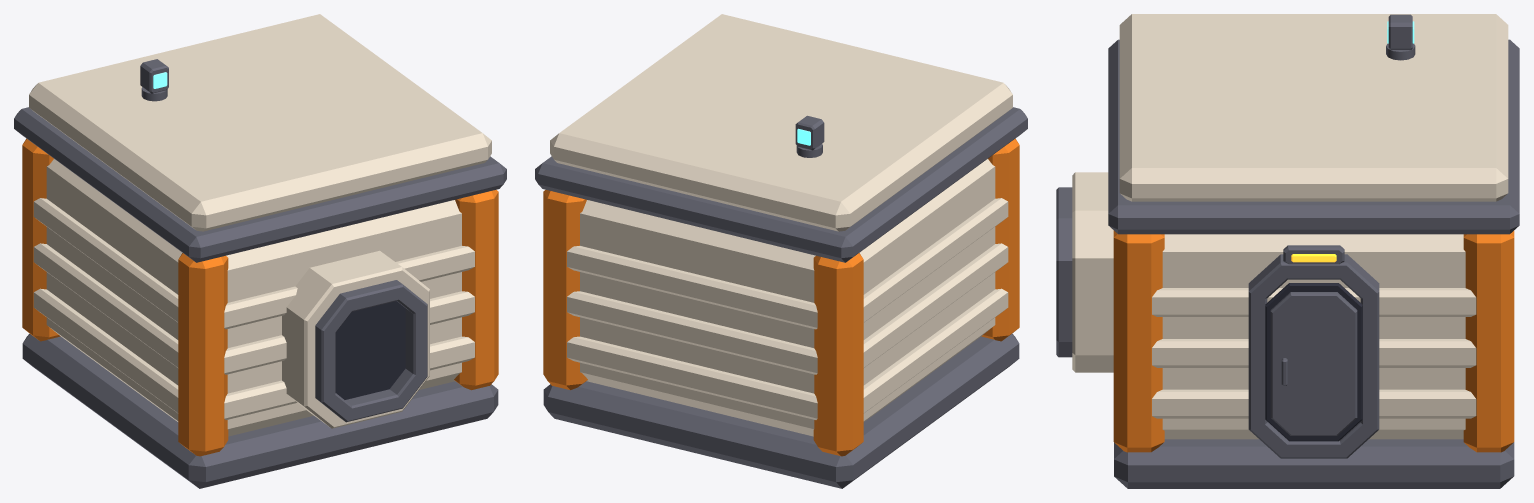
The model's file is storm-shelter-module.glb.
The picture shows the model from 3 angles, left to right: view 1: azimuth 30°, elevation 25°; view 2: azimuth 150°, elevation 25°; view 3: azimuth 270°, elevation 25°; orthographic projection. The views are drawn at different scales.
Parts seen in each view (by area): view 1: Ivory shelter cap, storm-shelter-module_smooth-structure, storm-shelter-module_smooth-structure_structure-gray, storm-shelter-module_accent-paint, Thick slate roof collar, storm-shelter-module_dark-trim, Shelter capped cyan beacon_smooth-structure_structure-gray; view 2: storm-shelter-module_smooth-structure, Ivory shelter cap, storm-shelter-module_smooth-structure_structure-gray, storm-shelter-module_accent-paint, Thick slate roof collar, Shelter capped cyan beacon_smooth-structure_structure-gray; view 3: Ivory shelter cap, storm-shelter-module_smooth-structure, storm-shelter-module_smooth-structure_structure-gray, storm-shelter-module_accent-paint, Thick slate roof collar, storm-shelter-module_dark-trim, Shelter capped cyan beacon_smooth-structure_structure-gray.
Part boxes in pixels (x1,y1,x2,y2): Ivory shelter cap: (29, 14, 491, 231); storm-shelter-module_smooth-structure: (33, 159, 474, 436); storm-shelter-module_smooth-structure_structure-gray: (22, 280, 498, 488); storm-shelter-module_accent-paint: (22, 138, 498, 456); Thick slate roof collar: (14, 107, 506, 262); storm-shelter-module_dark-trim: (335, 301, 405, 399); Shelter capped cyan beacon_smooth-structure_structure-gray: (140, 59, 168, 101); storm-shelter-module_smooth-structure: (567, 159, 1008, 436); Ivory shelter cap: (550, 14, 1012, 231); storm-shelter-module_smooth-structure_structure-gray: (543, 333, 1019, 488); storm-shelter-module_accent-paint: (543, 138, 1019, 456); Thick slate roof collar: (535, 107, 1027, 262); Shelter capped cyan beacon_smooth-structure_structure-gray: (795, 115, 824, 157); Ivory shelter cap: (1119, 14, 1508, 201); storm-shelter-module_smooth-structure: (1072, 172, 1476, 439); storm-shelter-module_smooth-structure_structure-gray: (1056, 187, 1514, 488); storm-shelter-module_accent-paint: (1113, 230, 1514, 452); Thick slate roof collar: (1108, 39, 1519, 234); storm-shelter-module_dark-trim: (1265, 283, 1362, 441); Shelter capped cyan beacon_smooth-structure_structure-gray: (1386, 14, 1415, 60).
Size of the model in its own units: 3.25 by 2.93 by 3.47.
